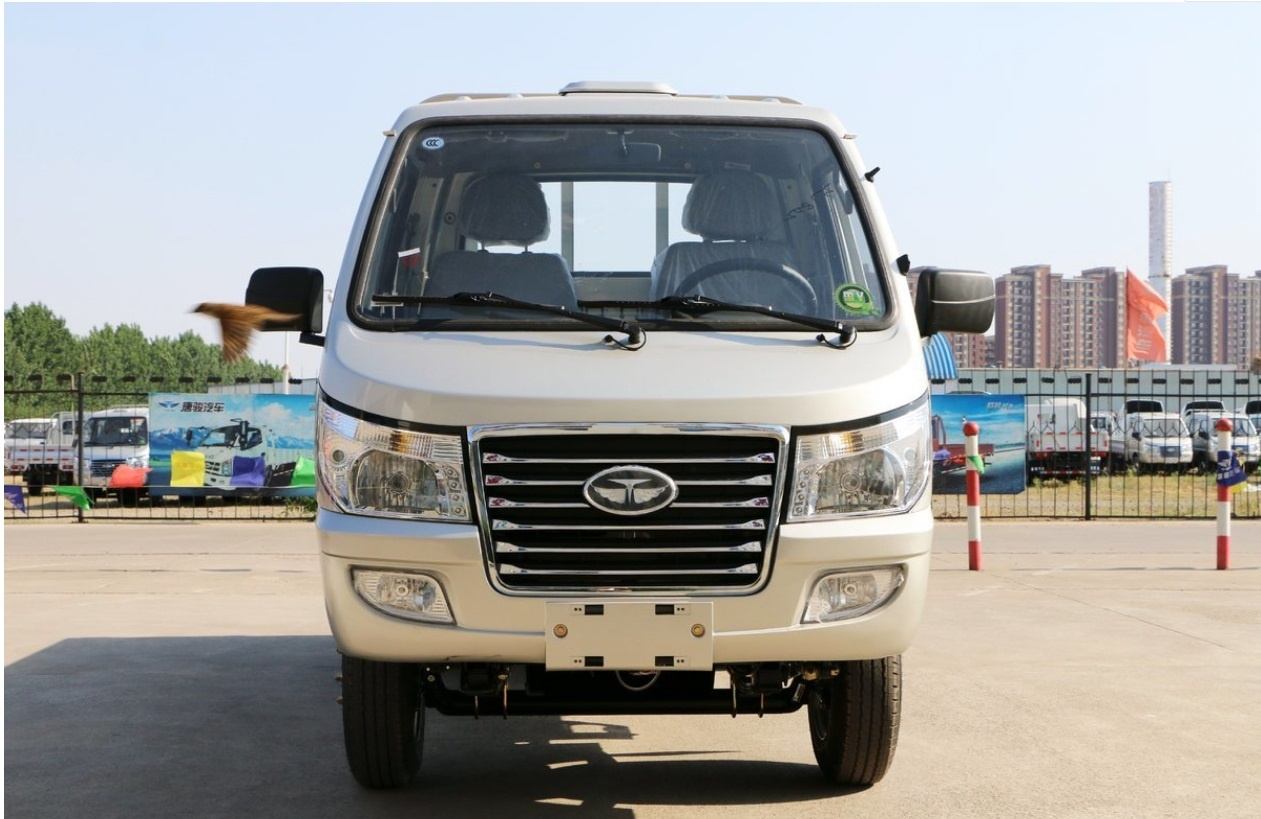truck: (265, 91, 951, 781)
